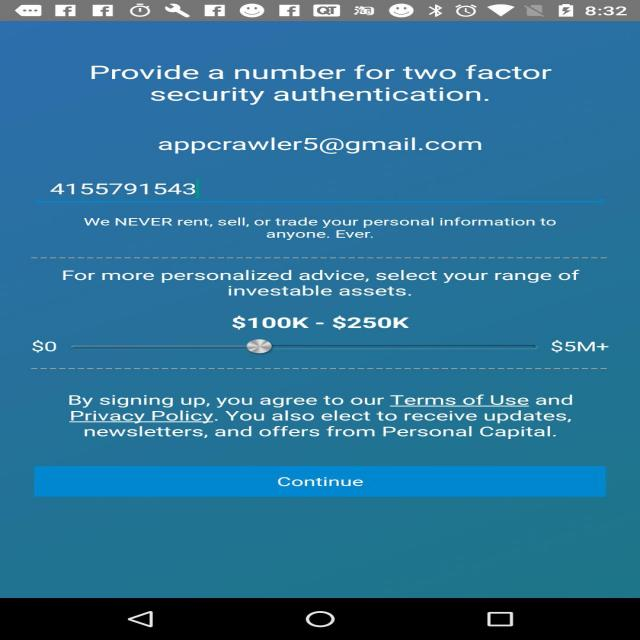button: (36, 467, 605, 499), (237, 337, 281, 359)
icon: (242, 338, 276, 356)
text: (64, 394, 576, 443), (88, 64, 560, 103), (54, 267, 584, 299), (83, 214, 560, 241), (154, 138, 494, 152), (226, 314, 419, 332), (47, 180, 202, 198), (268, 476, 370, 488), (546, 339, 610, 354), (32, 341, 62, 351)
